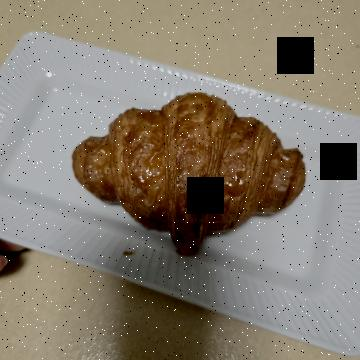croissant: (85, 49, 272, 300)
